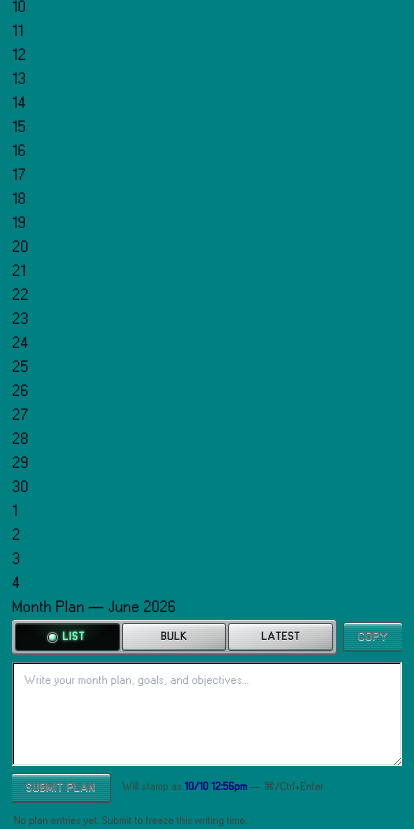
Test: MonthView › persists month plan text as a stamped entry on submit
(page scrolled)
Type "Focus on shipping" into the text box with placeholder "Write your month plan, goals, and objectives...".
click(207, 714); type("Focus on shipping")  # box [12,662,402,766]
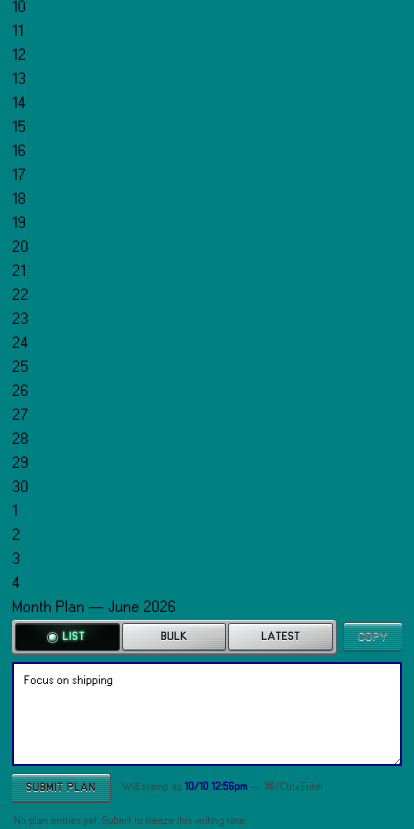
Click the button "Submit plan".
click(61, 788)  # box [12,774,110,802]
(page scrolled)
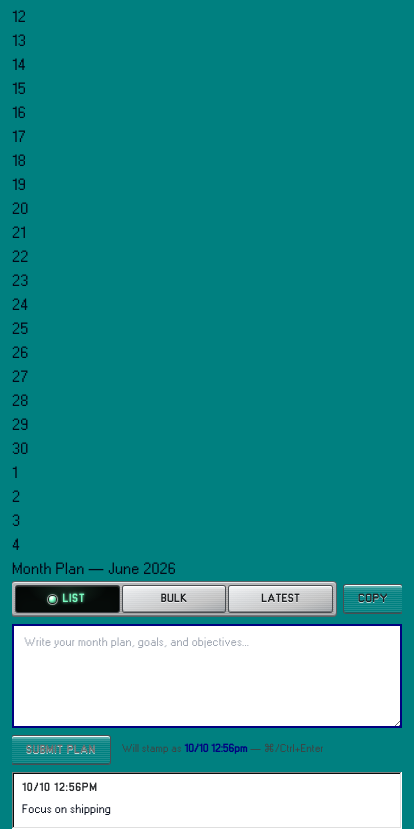
Expected: the text "Focus on shipping" is shown, [22,804,111,814]
